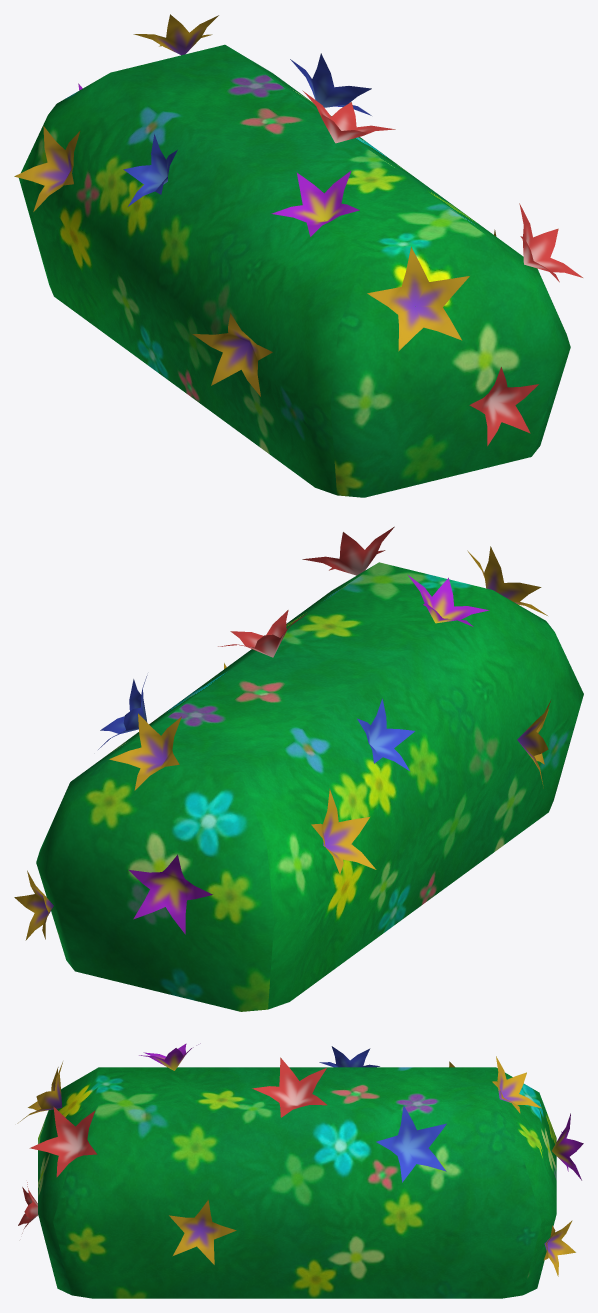
The model's file is Plant03_a02.FBX.
3 views of the same model, one above another, from view 1: azimuth 30°, elevation 25°; view 2: azimuth 150°, elevation 25°; view 3: azimuth 270°, elevation 25° (orthographic). The views are drawn at different scales.
Parts seen in each view (by area): view 1: Plant03_a02; view 2: Plant03_a02; view 3: Plant03_a02.
Part boxes in pixels (left/top/right/bottom): Plant03_a02: left=14, top=14, right=582, bottom=497; Plant03_a02: left=14, top=526, right=583, bottom=1011; Plant03_a02: left=17, top=1043, right=583, bottom=1298.
Size of the model in its own units: 172 by 131 by 333.
Materials: 2 (2 with a texture image).
